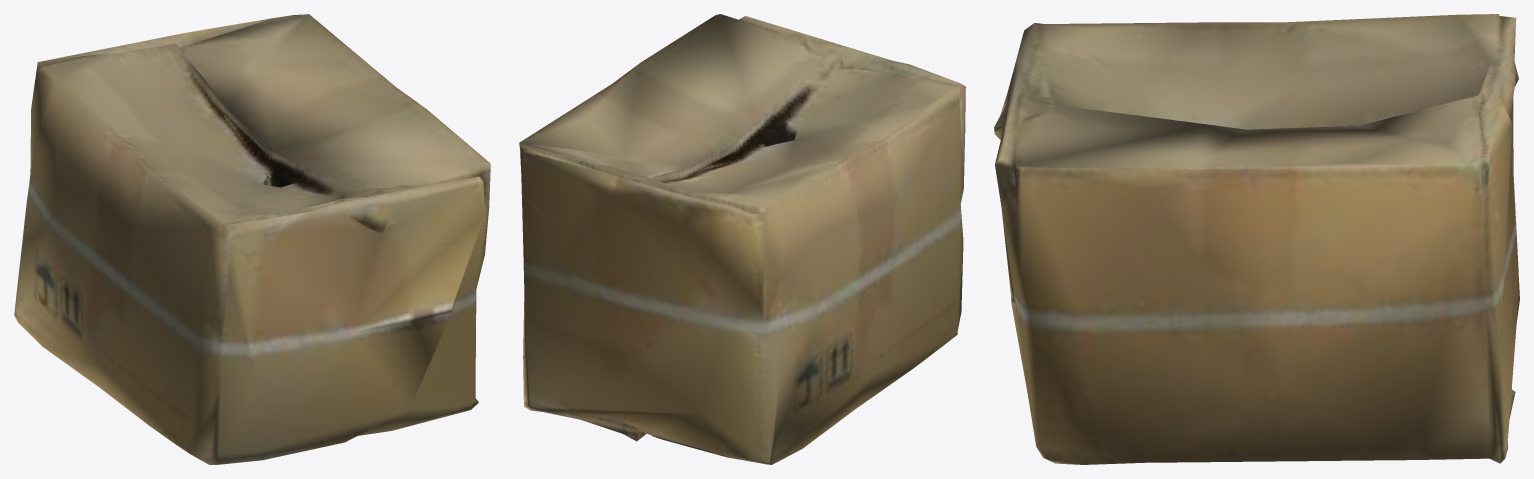
File: cardboard_box_01.glb
The picture shows the model from 3 angles, left to right: view 1: azimuth 30°, elevation 25°; view 2: azimuth 150°, elevation 25°; view 3: azimuth 270°, elevation 25°; orthographic projection. The views are drawn at different scales.
Visible parts, largest first — view 1: cardboard_box_01; view 2: cardboard_box_01; view 3: cardboard_box_01.
Boxes of the visible parts, x1=… form: cardboard_box_01: x1=14, y1=14, x2=490, y2=464; cardboard_box_01: x1=519, y1=14, x2=965, y2=464; cardboard_box_01: x1=994, y1=14, x2=1519, y2=464.
Bounding box in the file's own units: 0.3827 × 0.3394 × 0.5159.
1 material, 1 textured.
